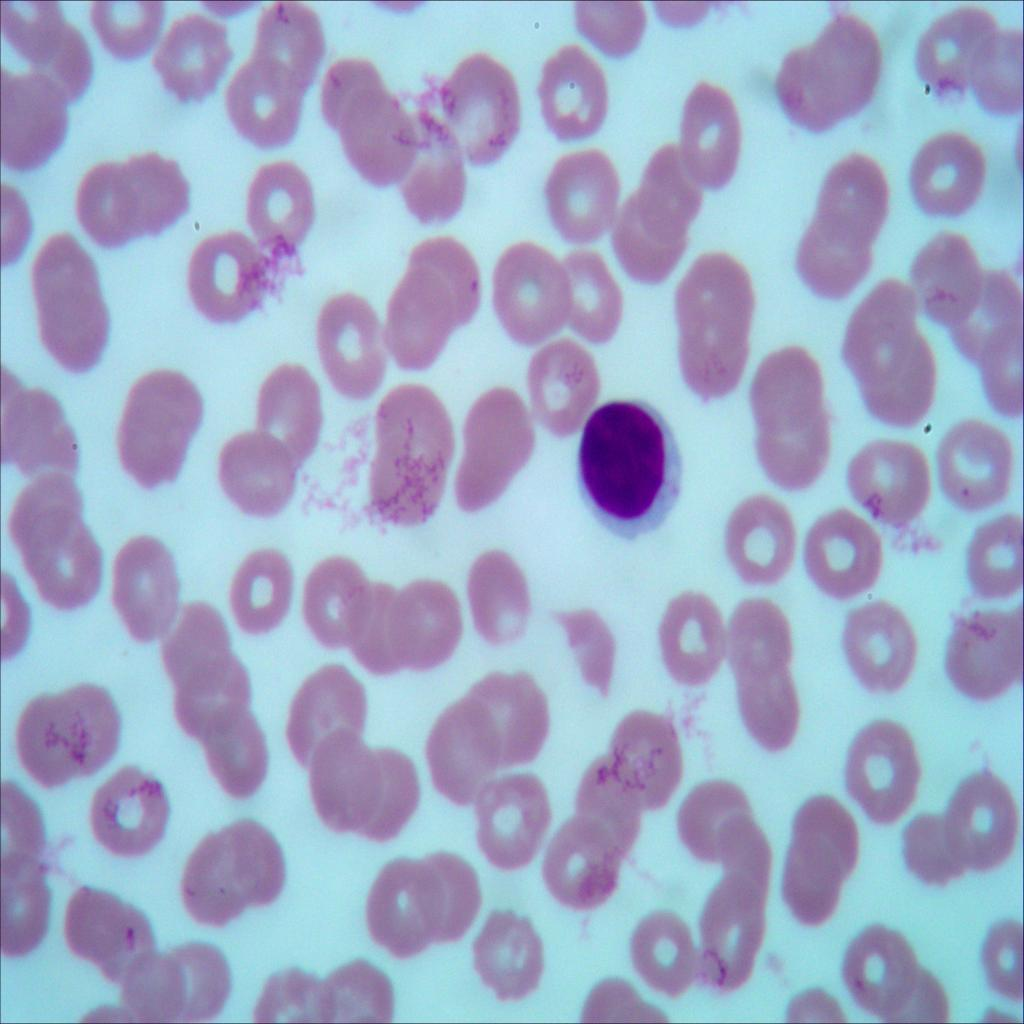Limfosit: (564, 390, 684, 544)
